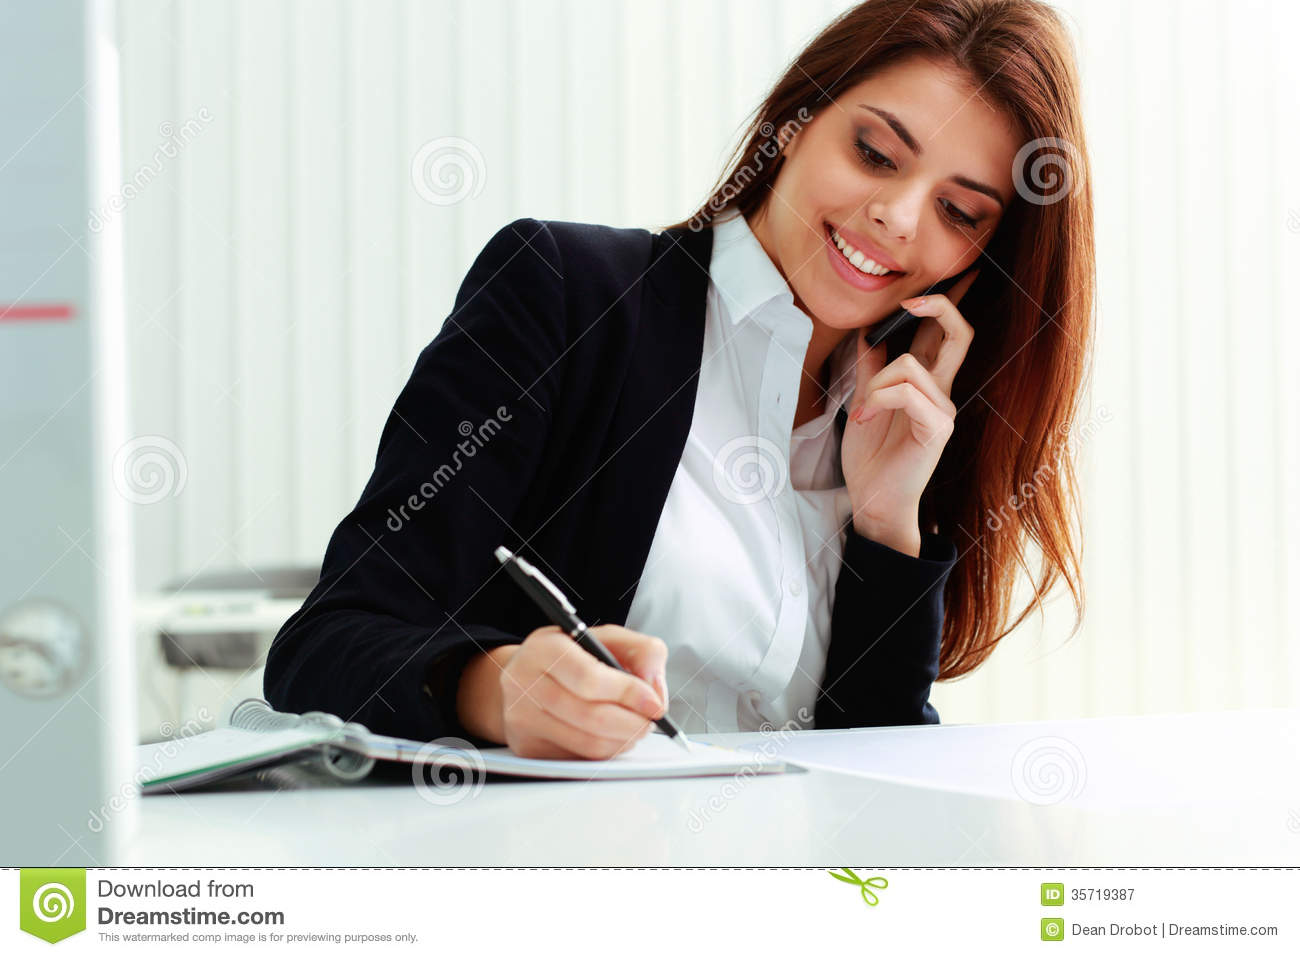talk: (785, 98, 1011, 527)
